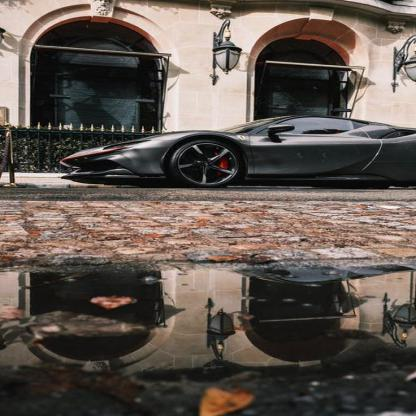Tire: (164, 137, 245, 189)
